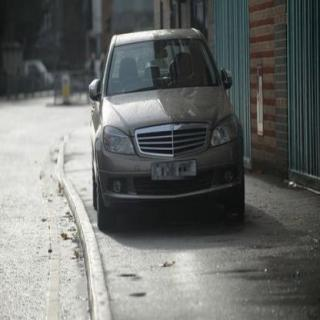Normal_vehicle: (88, 28, 244, 228)
